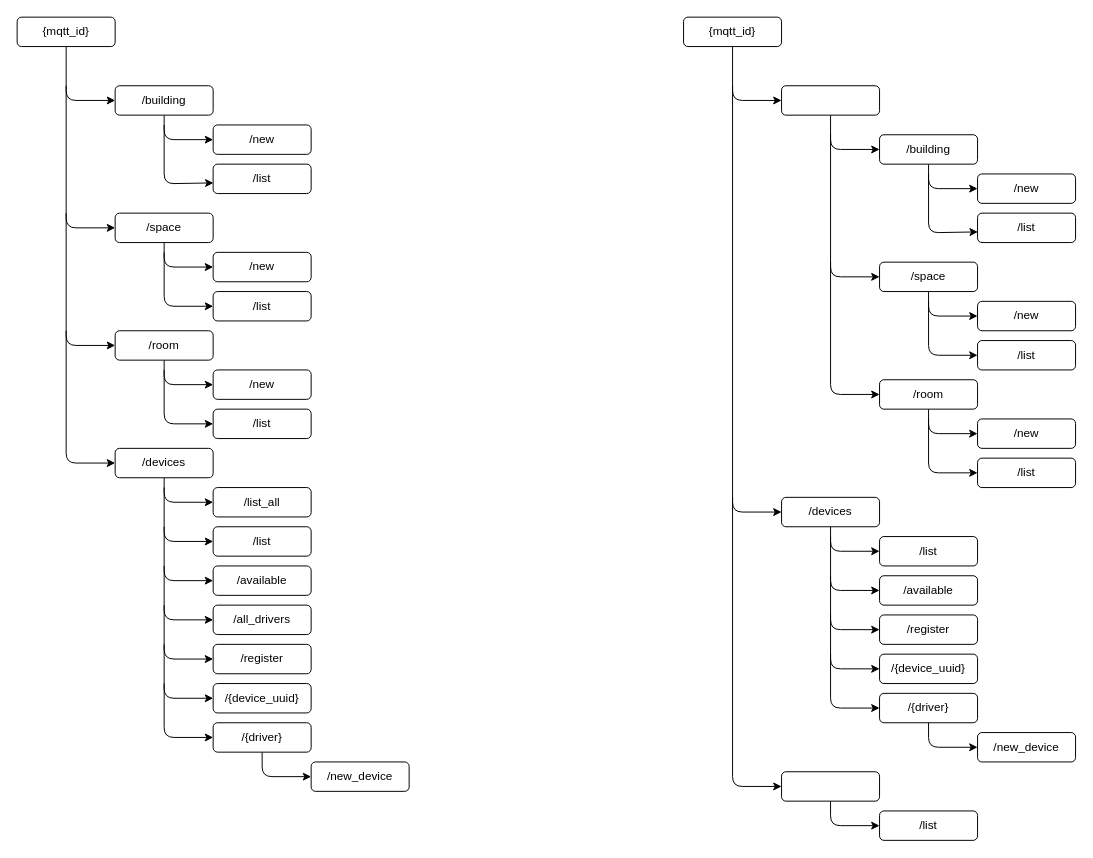
Some shapes in this 1093 by 858 pixel diagram are drawn without their labels. Each missing label, with the box of its shape:
/campus: (781, 85, 880, 115)
/drivers: (781, 771, 880, 801)
